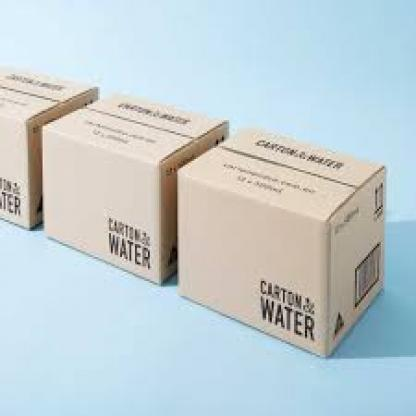Aluminum can: (5, 50, 416, 383)
